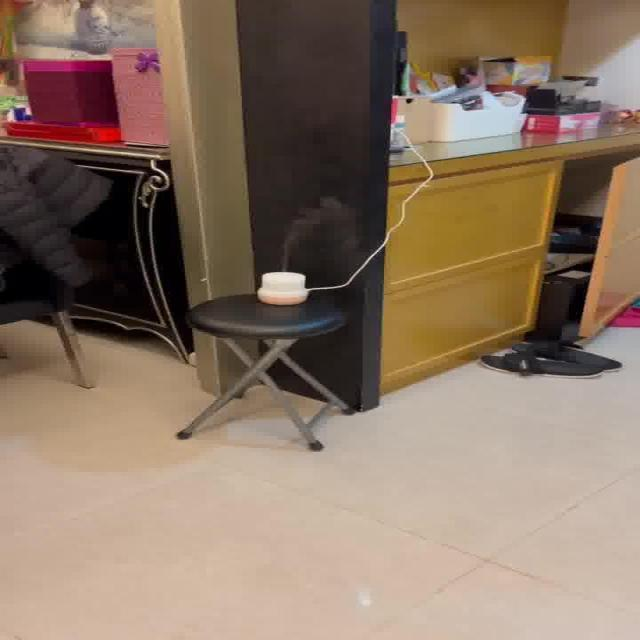fire: (276, 201, 351, 266)
